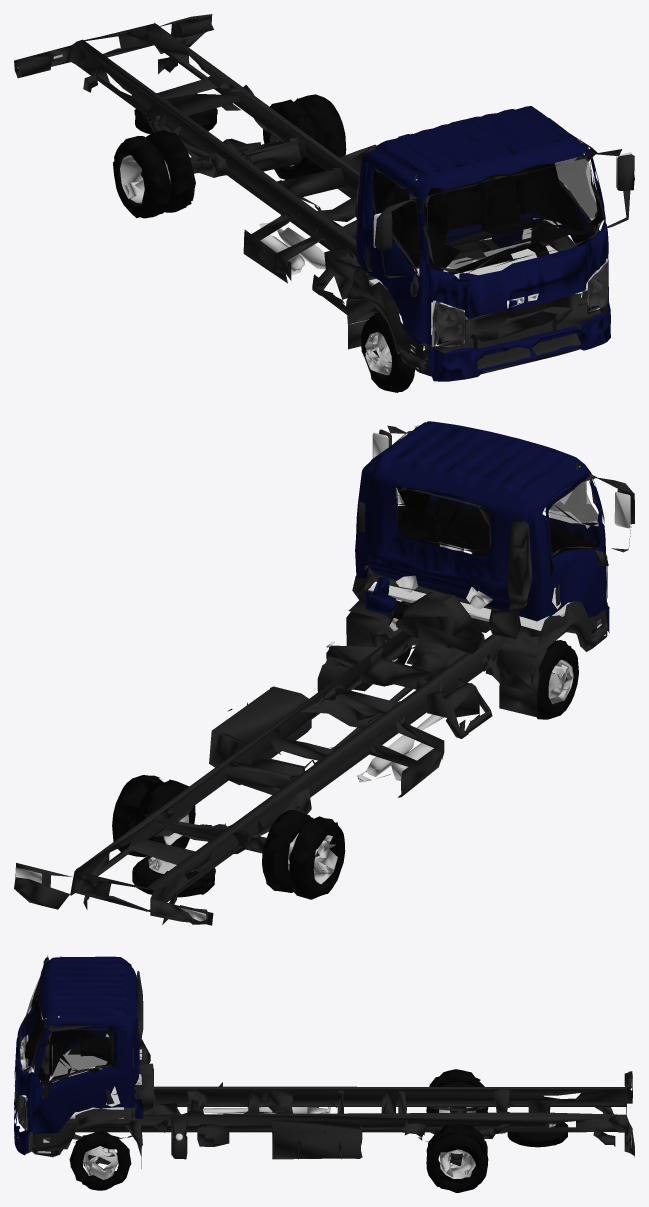
The model's file is isuzu_cargo_base_truck.glb.
3 renders of one model, top to bottom at view 1: azimuth 30°, elevation 25°; view 2: azimuth 150°, elevation 25°; view 3: azimuth 270°, elevation 25°, orthographic. The views are drawn at different scales.
Visible parts, largest first — view 1: body; view 2: body; view 3: body.
Boxes of the visible parts, x1,y1,x2,y2 form: body: (14,14,634,392); body: (14,421,634,925); body: (14,955,634,1192).
Size of the model in its own units: 2.43 by 2.13 by 6.77.
